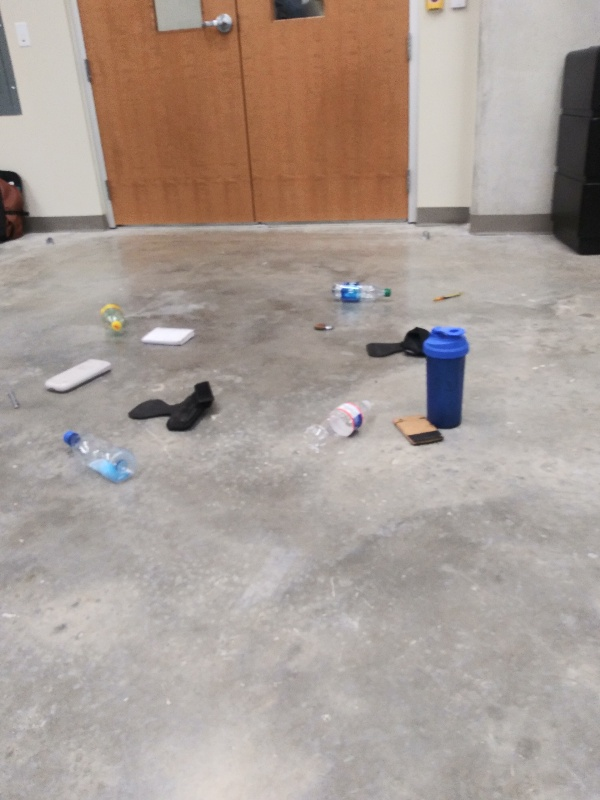bottle: (300, 394, 376, 457), (58, 427, 135, 484), (328, 281, 395, 306), (92, 295, 126, 339)
